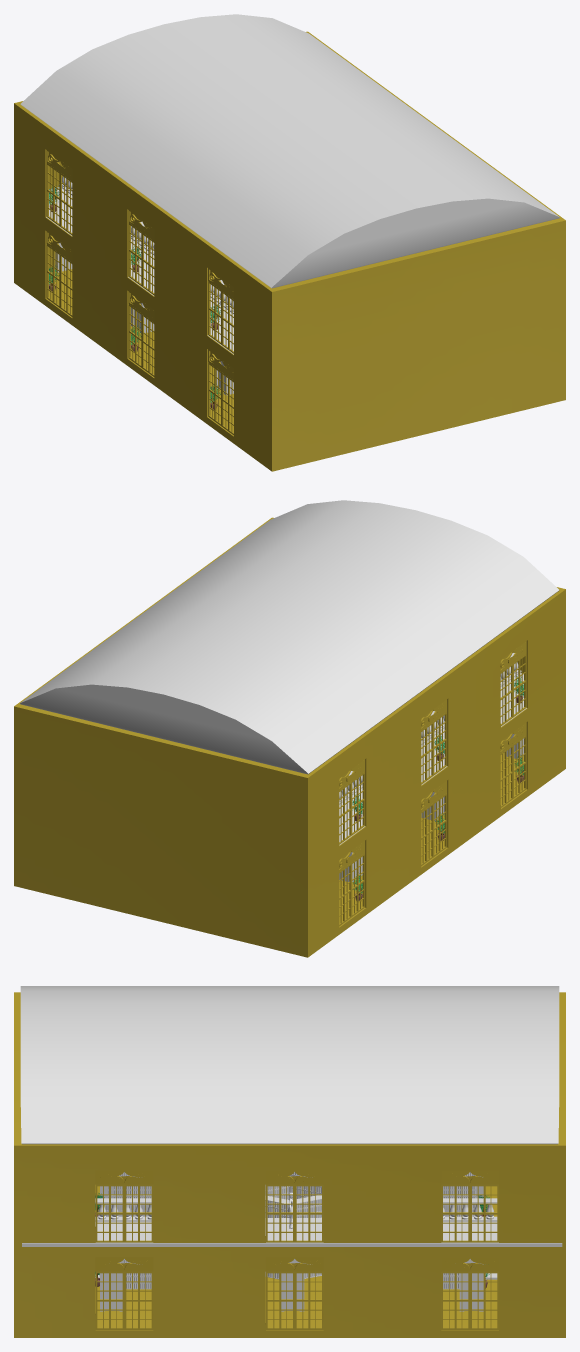
File: LibraryGameReady.fbx
The picture shows the model from 3 angles, top to bottom: view 1: azimuth 30°, elevation 25°; view 2: azimuth 150°, elevation 25°; view 3: azimuth 270°, elevation 25°; orthographic projection. The views are drawn at different scales.
Visible parts, largest first — view 1: OuterWalls, LibraryRoof, Cube.016, Window1.008, Window1.002, Window1.007, Window1.001, Window1.006, Window1; view 2: OuterWalls, LibraryRoof, Cube.016, Window1.006, Window1, Window1.007, Window1.001, Window1.008, Window1.002; view 3: OuterWalls, LibraryRoof, Cube.001, Window1.005, Window1.011, Window1.004, Window1.010, Window1.003, Window1.009, ArchesBase.001, ArchesBase.002, Shelf.010.
Boxes of the visible parts, x1,y1,x2,y2 form: OuterWalls: [14, 31, 565, 471]; LibraryRoof: [20, 14, 559, 288]; Cube.016: [46, 187, 233, 354]; Window1.008: [46, 231, 72, 316]; Window1.002: [46, 150, 72, 235]; Window1.007: [128, 292, 154, 376]; Window1.001: [128, 210, 154, 295]; Window1.006: [208, 349, 233, 435]; Window1: [208, 268, 233, 353]; OuterWalls: [14, 517, 565, 957]; LibraryRoof: [20, 500, 559, 774]; Cube.016: [339, 673, 526, 845]; Window1.006: [500, 722, 526, 807]; Window1: [500, 641, 526, 726]; Window1.007: [421, 781, 446, 865]; Window1.001: [421, 699, 446, 784]; Window1.008: [339, 841, 364, 925]; Window1.002: [339, 759, 364, 844]; OuterWalls: [14, 992, 565, 1337]; LibraryRoof: [20, 986, 559, 1144]; Cube.001: [22, 1218, 562, 1246]; Window1.005: [441, 1170, 498, 1242]; Window1.011: [441, 1257, 498, 1329]; Window1.004: [265, 1170, 323, 1242]; Window1.010: [265, 1257, 323, 1329]; Window1.003: [95, 1170, 153, 1242]; Window1.009: [95, 1257, 153, 1329]; ArchesBase.001: [104, 1259, 479, 1310]; ArchesBase.002: [100, 1259, 483, 1311]; Shelf.010: [265, 1195, 321, 1279].
Bounding box in the file's own units: 1542 × 1127 × 2343.
